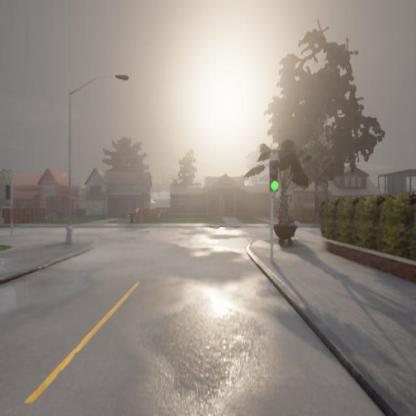traffic_light_green: (268, 158, 279, 192)
